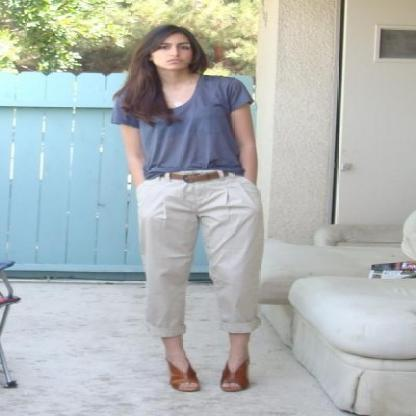pants: (127, 175, 268, 336)
shirt: (90, 63, 252, 179)
shoe: (170, 359, 248, 389)
